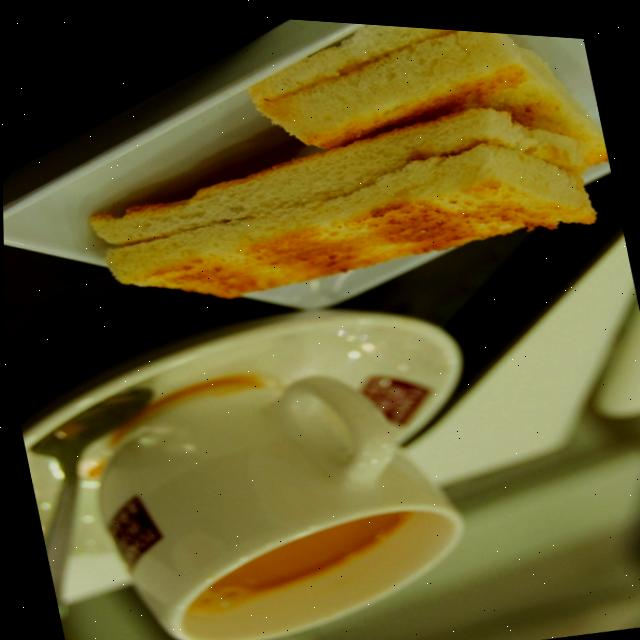面包点心: (0, 0, 630, 418)
